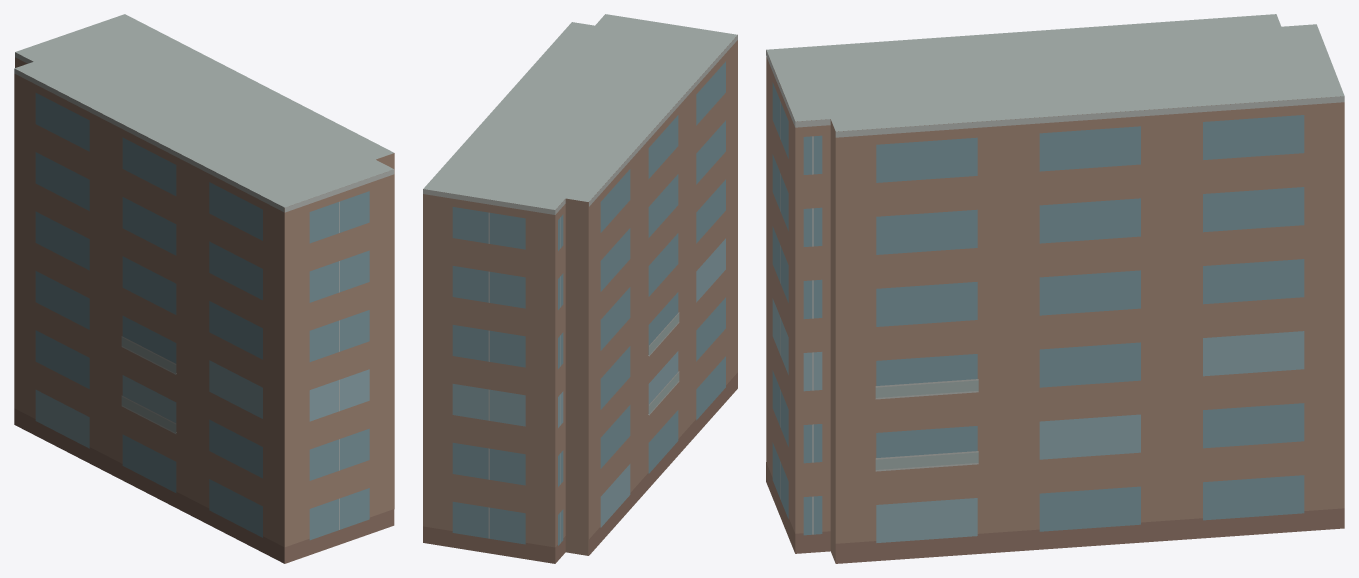
The model's file is survey-upis-32574948.glb.
The picture shows the model from 3 angles, left to right: view 1: azimuth 30°, elevation 25°; view 2: azimuth 150°, elevation 25°; view 3: azimuth 270°, elevation 25°; orthographic projection. The views are drawn at different scales.
Visible parts, largest first — view 1: survey-upis-32574948.tmp; view 2: survey-upis-32574948.tmp; view 3: survey-upis-32574948.tmp.
Part boxes in pixels (x1,y1,x2,y2): survey-upis-32574948.tmp: [14, 14, 394, 563]; survey-upis-32574948.tmp: [423, 14, 737, 563]; survey-upis-32574948.tmp: [766, 14, 1344, 563].
Bounding box in the file's own units: 10.1 × 17.3 × 20.99.
